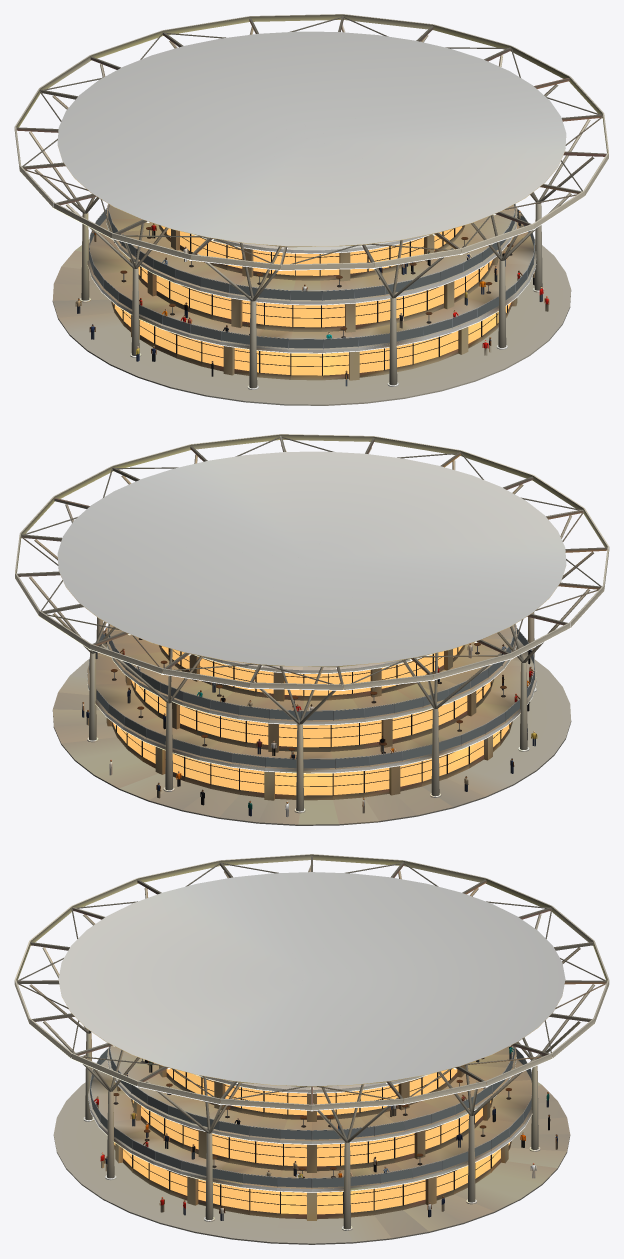
File: vvip_shell.glb
3 renders of one model, top to bottom at view 1: azimuth 30°, elevation 25°; view 2: azimuth 150°, elevation 25°; view 3: azimuth 270°, elevation 25°, orthographic.
Parts seen in each view (by area): view 1: vvip_shell; view 2: vvip_shell; view 3: vvip_shell.
Boxes of the visible parts, bbox=[...] form: vvip_shell: bbox=[14, 14, 609, 405]; vvip_shell: bbox=[14, 434, 609, 825]; vvip_shell: bbox=[14, 854, 609, 1244].
Size of the model in its own units: 62.3 by 18.06 by 62.3.
